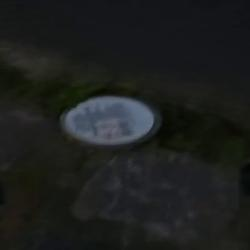Restaffald: (59, 95, 161, 150)
